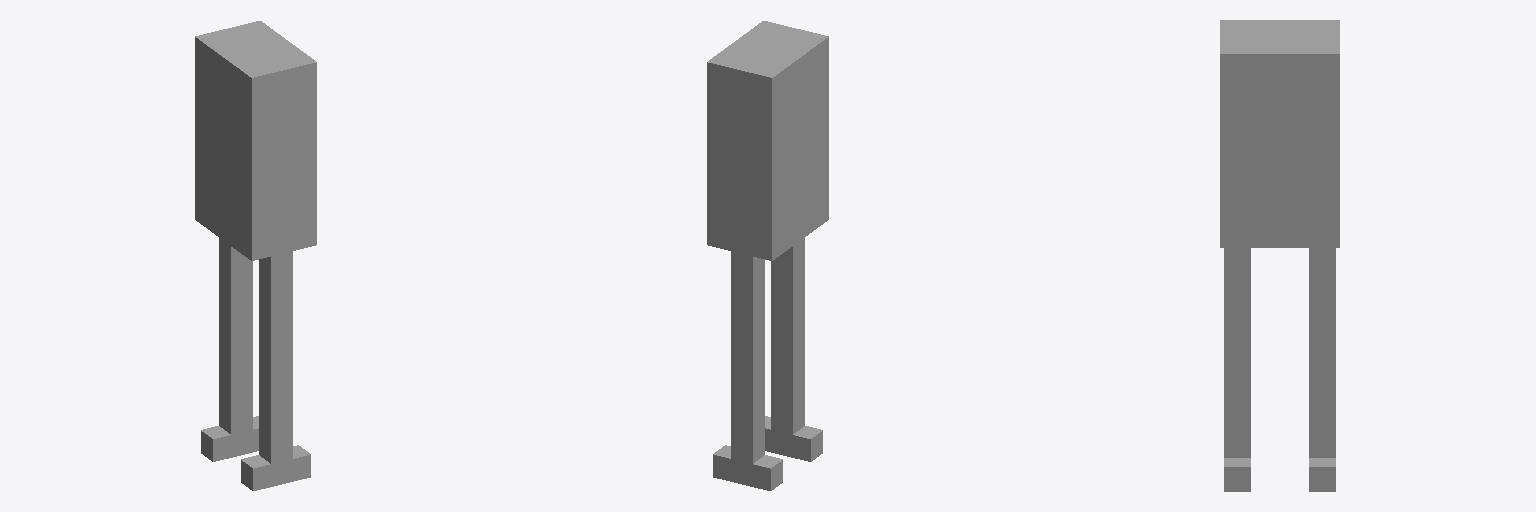
The robot description file, URDF, robot "BipedRobot1015":
<?xml version="1.0" encoding="utf-8"?>
<!-- This URDF was automatically created by SolidWorks to URDF Exporter! Originally created by [author] ([email redacted]) 
     Commit Version: 1.6.0-1-g15f4949  Build Version: 1.6.7594.29634
     For more information, please see http://wiki.ros.org/sw_urdf_exporter -->
<robot
  name="BipedRobot1015">
  <link
    name="body">
    <inertial>
      <origin
        xyz="-9.1028E-18 -1.3415E-17 1.0908E-10"
        rpy="0 0 0" />
      <mass
        value="10" />
      <inertia
        ixx="0.063187"
        ixy="2.3828E-19"
        ixz="2.0336E-23"
        iyy="0.05475"
        iyz="1.1308E-18"
        izz="0.021937" />
    </inertial>
    <visual>
      <origin
        xyz="0 0 0"
        rpy="0 0 0" />
      <geometry>
        <mesh
          filename="package://BipedRobot1015/meshes/body.STL" />
      </geometry>
      <material
        name="">
        <color
          rgba="0.69804 0.69804 0.69804 1" />
      </material>
    </visual>
    <collision>
      <origin
        xyz="0 0 0"
        rpy="0 0 0" />
      <geometry>
        <mesh
          filename="package://BipedRobot1015/meshes/body.STL" />
      </geometry>
    </collision>
  </link>
  <link
    name="left_up_leg">
    <inertial>
      <origin
        xyz="-1.4705E-18 0.01375 -0.075"
        rpy="0 0 0" />
      <mass
        value="3" />
      <inertia
        ixx="0.006625"
        ixy="1.1269E-20"
        ixz="4.0004E-20"
        iyy="0.006625"
        iyz="1.4522E-18"
        izz="0.00045" />
    </inertial>
    <visual>
      <origin
        xyz="0 0 0"
        rpy="0 0 0" />
      <geometry>
        <mesh
          filename="package://BipedRobot1015/meshes/left_up_leg.STL" />
      </geometry>
      <material
        name="">
        <color
          rgba="0.69804 0.69804 0.69804 1" />
      </material>
    </visual>
    <collision>
      <origin
        xyz="0 0 0"
        rpy="0 0 0" />
      <geometry>
        <mesh
          filename="package://BipedRobot1015/meshes/left_up_leg.STL" />
      </geometry>
    </collision>
  </link>
  <joint
    name="joint_left_hip"
    type="revolute">
    <origin
      xyz="0 0.03375 -0.11"
      rpy="0 0 0" />
    <parent
      link="body" />
    <child
      link="left_up_leg" />
    <axis
      xyz="0 -1 0" />
    <limit
      lower="-3.14"
      upper="3.14"
      effort="100"
      velocity="1" />
  </joint>
  <link
    name="left_low_leg">
    <inertial>
      <origin
        xyz="-2.9187E-18 4.2605E-15 -0.075"
        rpy="0 0 0" />
      <mass
        value="1.5" />
      <inertia
        ixx="0.0033125"
        ixy="-1.1075E-20"
        ixz="-2.0256E-19"
        iyy="0.0033125"
        iyz="-7.5544E-19"
        izz="0.000225" />
    </inertial>
    <visual>
      <origin
        xyz="0 0 0"
        rpy="0 0 0" />
      <geometry>
        <mesh
          filename="package://BipedRobot1015/meshes/left_low_leg.STL" />
      </geometry>
      <material
        name="">
        <color
          rgba="0.69804 0.69804 0.69804 1" />
      </material>
    </visual>
    <collision>
      <origin
        xyz="0 0 0"
        rpy="0 0 0" />
      <geometry>
        <mesh
          filename="package://BipedRobot1015/meshes/left_low_leg.STL" />
      </geometry>
    </collision>
  </link>
  <joint
    name="joint_left_knee"
    type="revolute">
    <origin
      xyz="0 0.0137499999999958 -0.15"
      rpy="0 0 0" />
    <parent
      link="left_up_leg" />
    <child
      link="left_low_leg" />
    <axis
      xyz="0 1 0" />
    <limit
      lower="-3.14"
      upper="3.14"
      effort="100"
      velocity="1" />
  </joint>
  <link
    name="left_foot">
    <inertial>
      <origin
        xyz="-5.0325E-18 -6.9389E-18 1.3878E-17"
        rpy="0 0 0" />
      <mass
        value="0.5" />
      <inertia
        ixx="7.5E-05"
        ixy="-5.1239E-20"
        ixz="-3.2343E-21"
        iyy="0.00030417"
        iyz="-5.392E-21"
        izz="0.00030417" />
    </inertial>
    <visual>
      <origin
        xyz="0 0 0"
        rpy="0 0 0" />
      <geometry>
        <mesh
          filename="package://BipedRobot1015/meshes/left_foot.STL" />
      </geometry>
      <material
        name="">
        <color
          rgba="0.69804 0.69804 0.69804 1" />
      </material>
    </visual>
    <collision>
      <origin
        xyz="0 0 0"
        rpy="0 0 0" />
      <geometry>
        <mesh
          filename="package://BipedRobot1015/meshes/left_foot.STL" />
      </geometry>
    </collision>
  </link>
  <joint
    name="joint_left_ankle"
    type="revolute">
    <origin
      xyz="0 0 -0.15"
      rpy="0 0 0" />
    <parent
      link="left_low_leg" />
    <child
      link="left_foot" />
    <axis
      xyz="0 1 0" />
    <limit
      lower="-3.14"
      upper="3.14"
      effort="100"
      velocity="1" />
  </joint>
  <link
    name="right_up_leg">
    <inertial>
      <origin
        xyz="-5.6891E-17 -0.01375 -0.075"
        rpy="0 0 0" />
      <mass
        value="3" />
      <inertia
        ixx="0.006625"
        ixy="4.0835E-20"
        ixz="9.628E-19"
        iyy="0.006625"
        iyz="7.0549E-19"
        izz="0.00045" />
    </inertial>
    <visual>
      <origin
        xyz="0 0 0"
        rpy="0 0 0" />
      <geometry>
        <mesh
          filename="package://BipedRobot1015/meshes/right_up_leg.STL" />
      </geometry>
      <material
        name="">
        <color
          rgba="0.69804 0.69804 0.69804 1" />
      </material>
    </visual>
    <collision>
      <origin
        xyz="0 0 0"
        rpy="0 0 0" />
      <geometry>
        <mesh
          filename="package://BipedRobot1015/meshes/right_up_leg.STL" />
      </geometry>
    </collision>
  </link>
  <joint
    name="joint_right_hip"
    type="revolute">
    <origin
      xyz="0 -0.03375 -0.11"
      rpy="0 0 0" />
    <parent
      link="body" />
    <child
      link="right_up_leg" />
    <axis
      xyz="0 1 0" />
    <limit
      lower="-3.14"
      upper="3.14"
      effort="100"
      velocity="1" />
  </joint>
  <link
    name="right_low_leg">
    <inertial>
      <origin
        xyz="6.7702E-18 -6.9389E-18 -0.075"
        rpy="0 0 0" />
      <mass
        value="1.5" />
      <inertia
        ixx="0.0033125"
        ixy="1.4533E-20"
        ixz="-1.7995E-20"
        iyy="0.0033125"
        iyz="2.1719E-20"
        izz="0.000225" />
    </inertial>
    <visual>
      <origin
        xyz="0 0 0"
        rpy="0 0 0" />
      <geometry>
        <mesh
          filename="package://BipedRobot1015/meshes/right_low_leg.STL" />
      </geometry>
      <material
        name="">
        <color
          rgba="0.69804 0.69804 0.69804 1" />
      </material>
    </visual>
    <collision>
      <origin
        xyz="0 0 0"
        rpy="0 0 0" />
      <geometry>
        <mesh
          filename="package://BipedRobot1015/meshes/right_low_leg.STL" />
      </geometry>
    </collision>
  </link>
  <joint
    name="joint_right_knee"
    type="revolute">
    <origin
      xyz="0 -0.01375 -0.15"
      rpy="0 0 0" />
    <parent
      link="right_up_leg" />
    <child
      link="right_low_leg" />
    <axis
      xyz="0 -1 0" />
    <limit
      lower="-3.14"
      upper="3.14"
      effort="100"
      velocity="1" />
  </joint>
  <link
    name="right_foot">
    <inertial>
      <origin
        xyz="3.3553E-17 -6.9389E-18 1.7347E-18"
        rpy="0 0 0" />
      <mass
        value="0.5" />
      <inertia
        ixx="7.5E-05"
        ixy="-6.6957E-20"
        ixz="2.3582E-20"
        iyy="0.00030417"
        iyz="-1.4705E-21"
        izz="0.00030417" />
    </inertial>
    <visual>
      <origin
        xyz="0 0 0"
        rpy="0 0 0" />
      <geometry>
        <mesh
          filename="package://BipedRobot1015/meshes/right_foot.STL" />
      </geometry>
      <material
        name="">
        <color
          rgba="0.69804 0.69804 0.69804 1" />
      </material>
    </visual>
    <collision>
      <origin
        xyz="0 0 0"
        rpy="0 0 0" />
      <geometry>
        <mesh
          filename="package://BipedRobot1015/meshes/right_foot.STL" />
      </geometry>
    </collision>
  </link>
  <joint
    name="joint_right_ankle"
    type="revolute">
    <origin
      xyz="0 0 -0.15"
      rpy="0 0 0" />
    <parent
      link="right_low_leg" />
    <child
      link="right_foot" />
    <axis
      xyz="0 -1 0" />
    <limit
      lower="-3.14"
      upper="3.14"
      effort="100"
      velocity="1" />
  </joint>
</robot>

--- Render facts (derived) ---
The picture shows the robot from 3 angles, left to right: view 1: azimuth 30°, elevation 25°; view 2: azimuth 150°, elevation 25°; view 3: azimuth 270°, elevation 25°; orthographic projection.
Robot: BipedRobot1015 — 7 links, 6 joints (6 revolute); root link body; default pose: all joints at 0.
Visible links, largest first — view 1: body, left_low_leg, right_low_leg, right_up_leg, left_up_leg, right_foot, left_foot; view 2: body, right_low_leg, left_up_leg, left_low_leg, right_up_leg, left_foot, right_foot; view 3: body, left_up_leg, left_low_leg, right_up_leg, right_low_leg, left_foot, right_foot.
Boxes of the visible links, box(x1,y1,x2,y2) form: body: box(195, 21, 316, 260); left_low_leg: box(219, 327, 252, 449); right_low_leg: box(259, 356, 292, 478); right_up_leg: box(259, 251, 292, 364); left_up_leg: box(219, 238, 252, 335); right_foot: box(241, 445, 310, 490); left_foot: box(201, 416, 258, 461); body: box(707, 21, 828, 260); right_low_leg: box(771, 327, 804, 449); left_up_leg: box(731, 251, 764, 363); left_low_leg: box(731, 356, 764, 478); right_up_leg: box(771, 238, 804, 335); left_foot: box(713, 445, 782, 490); right_foot: box(765, 416, 822, 461); body: box(1220, 20, 1339, 247); left_up_leg: box(1309, 248, 1335, 352); left_low_leg: box(1309, 353, 1335, 457); right_up_leg: box(1224, 248, 1250, 352); right_low_leg: box(1224, 353, 1250, 457); left_foot: box(1309, 458, 1335, 491); right_foot: box(1224, 458, 1250, 491).
Bounding box of the posed robot: 0.09 × 0.135 × 0.545 m (x, y, z).
Meshes: 7 distinct files referenced, 7 mesh visuals loaded (7 binary STL).